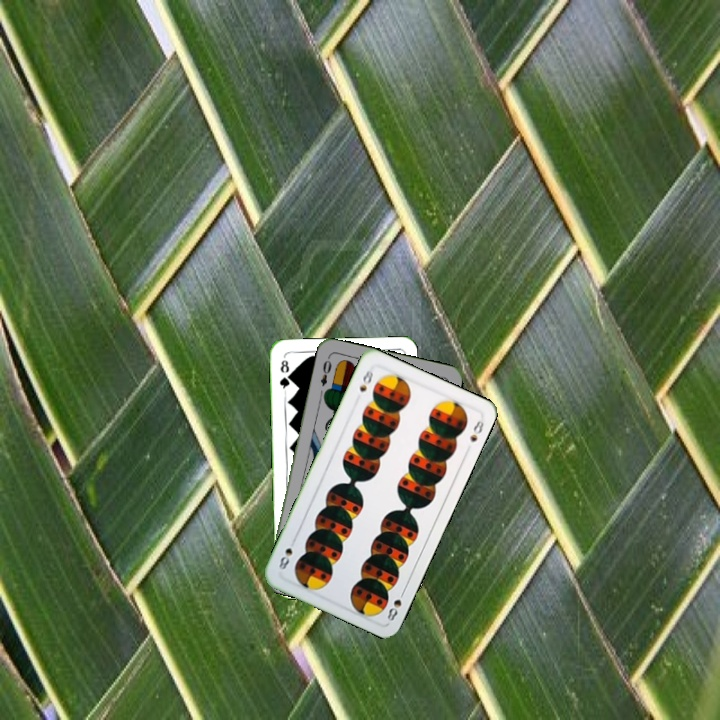EO: (316, 353, 334, 389)
G8: (276, 356, 292, 394)
S8: (383, 585, 408, 624), (355, 366, 376, 394)
